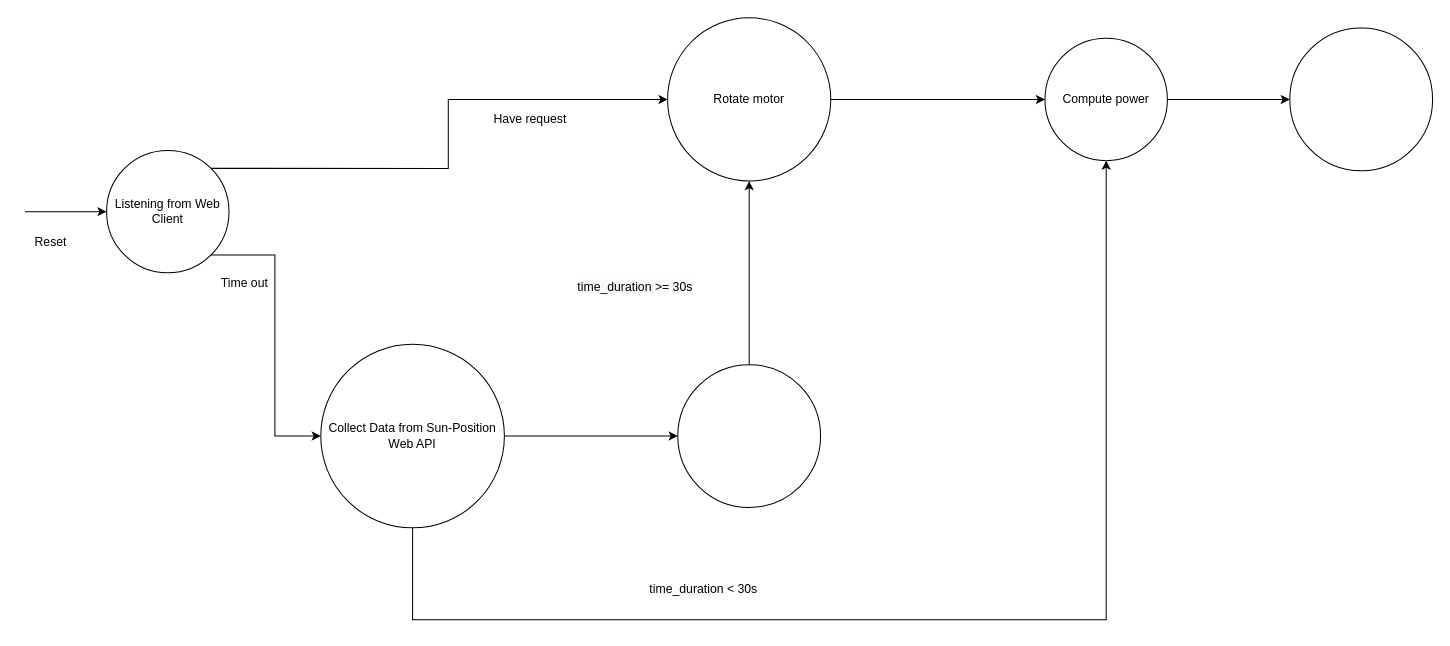
This 1450x646 diagram has some shape labels left out. Each missing label, with the centre of its shape:
Compute vector rotator: the point at 749,435
Send to Gateway: the point at 1361,99
